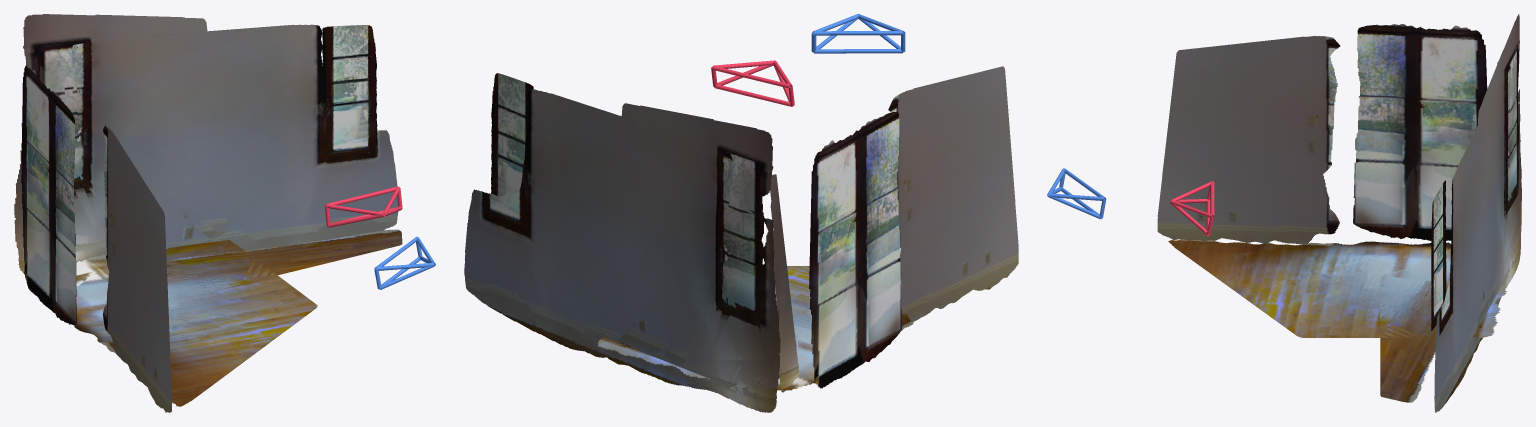
Rendered from pred.glb.
3 views of the same model, side by side, from view 1: azimuth 30°, elevation 25°; view 2: azimuth 150°, elevation 25°; view 3: azimuth 270°, elevation 25° (orthographic). The views are drawn at different scales.
Parts seen in each view (by area): view 1: Node; view 2: Node; view 3: Node.
Part boxes in pixels (bbox=[...]): Node: bbox=[14, 14, 435, 412]; Node: bbox=[464, 14, 1018, 412]; Node: bbox=[1047, 14, 1521, 412].
Bounding box in the file's own units: 4.14 × 2.92 × 4.77.
12 materials, 10 textured.
